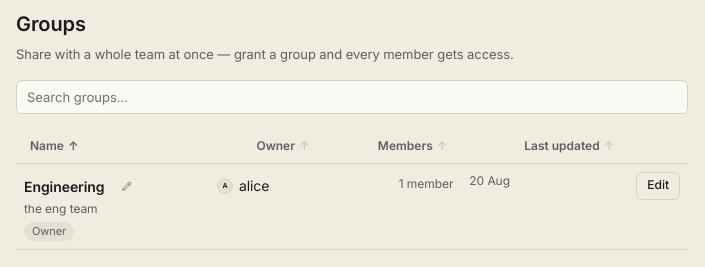
Test: GroupsPage renaming › abandons the edit on Escape
Click the button named "Rename Engineering" at (128, 186), box [110,172,144,200]
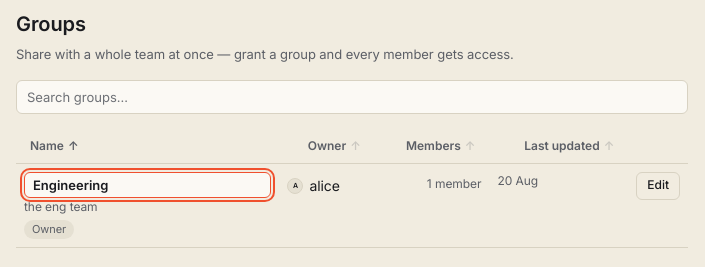
Type "Whatever" into the field named "Group name" at (148, 185), box [24,172,271,198]
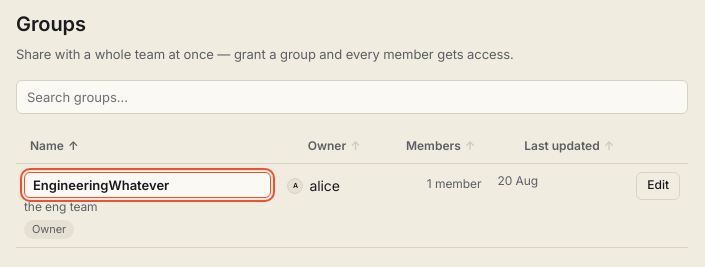
Press Escape
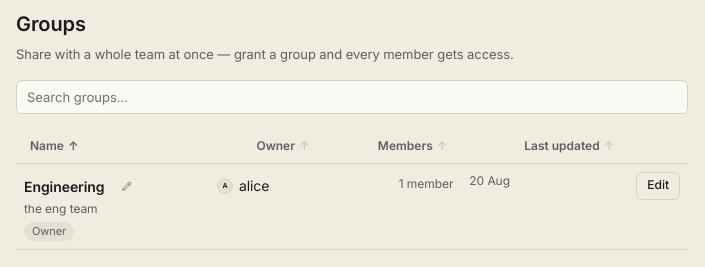
Expected: the text "Engineering" is shown, [24,176,104,197]
